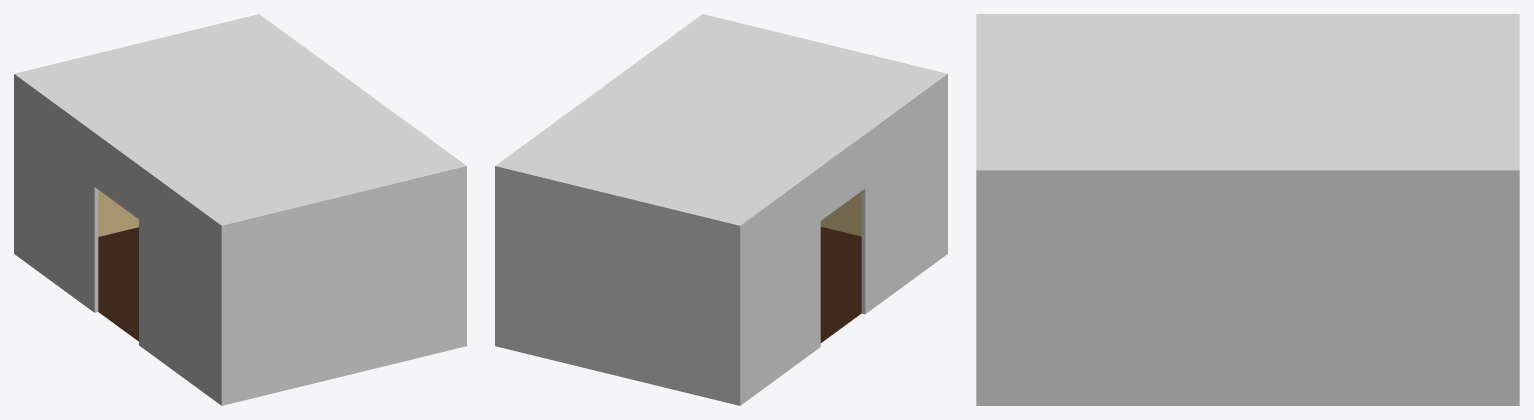
Rendered from laboratory.glb.
3 renders of one model, left to right at view 1: azimuth 30°, elevation 25°; view 2: azimuth 150°, elevation 25°; view 3: azimuth 270°, elevation 25°, orthographic. The views are drawn at different scales.
Visible parts, largest first — view 1: Cube; view 2: Cube; view 3: Cube.
Boxes of the visible parts, box(x1,y1,x2,y2) form: Cube: box(14, 14, 466, 405); Cube: box(495, 14, 947, 405); Cube: box(976, 14, 1519, 405).
Size of the model in its own units: 1.89 by 1.33 by 2.78.
